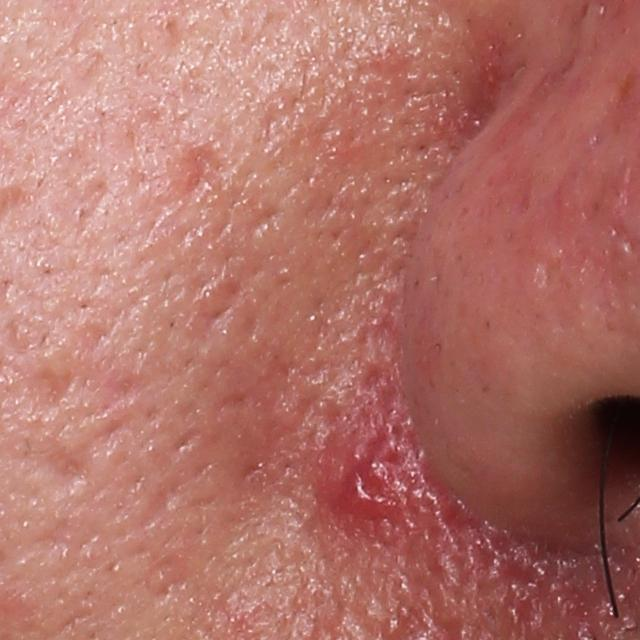atrophic_scar: (54, 354, 136, 423), (185, 276, 246, 341), (48, 175, 110, 230), (180, 142, 229, 203), (45, 444, 93, 497), (31, 366, 74, 413)
